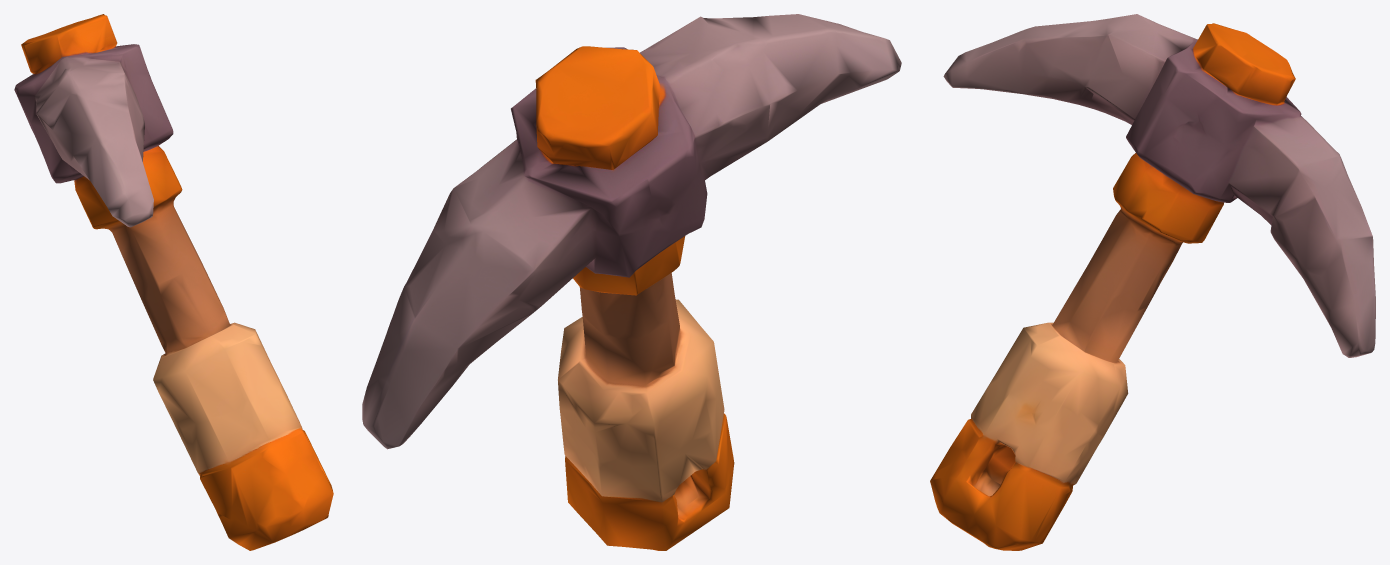
File: pico.glb
The picture shows the model from 3 angles, left to right: view 1: azimuth 30°, elevation 25°; view 2: azimuth 150°, elevation 25°; view 3: azimuth 270°, elevation 25°; orthographic projection. The views are drawn at different scales.
Parts seen in each view (by area): view 1: tripo_node_d738feca-32fd-4f20-906c-28f820d5d27c; view 2: tripo_node_d738feca-32fd-4f20-906c-28f820d5d27c; view 3: tripo_node_d738feca-32fd-4f20-906c-28f820d5d27c.
Part boxes in pixels (<box>): tripo_node_d738feca-32fd-4f20-906c-28f820d5d27c: <box>14,14,333,550</box>; tripo_node_d738feca-32fd-4f20-906c-28f820d5d27c: <box>362,14,901,550</box>; tripo_node_d738feca-32fd-4f20-906c-28f820d5d27c: <box>930,14,1375,550</box>.
Size of the model in its own units: 0.5201 by 0.9999 by 0.8479.
1 material, 1 textured.
